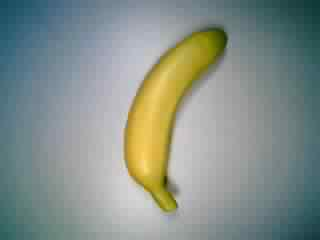banana: (118, 23, 235, 218)
